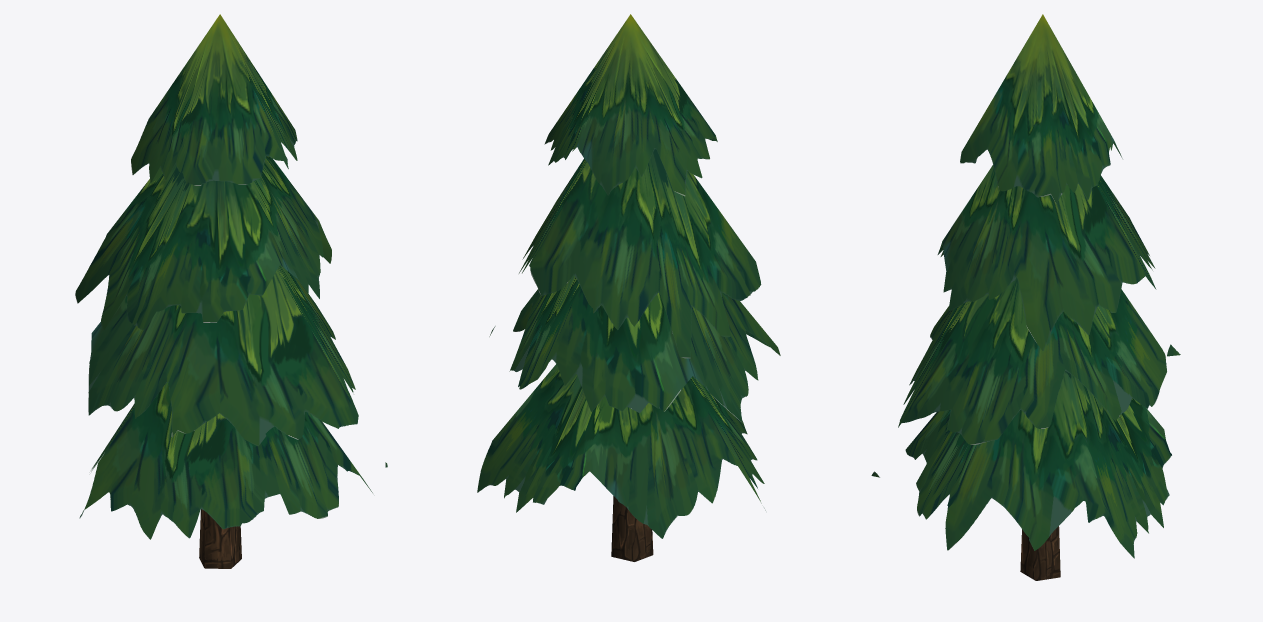
File: PineTree.FBX
3 views of the same model, side by side, from view 1: azimuth 30°, elevation 25°; view 2: azimuth 150°, elevation 25°; view 3: azimuth 270°, elevation 25° (orthographic). The views are drawn at different scales.
Visible parts, largest first — view 1: tree_coniferous_A; view 2: tree_coniferous_A; view 3: tree_coniferous_A.
Boxes of the visible parts, left/top/right/bottom form: tree_coniferous_A: left=75, top=14, right=387, bottom=568; tree_coniferous_A: left=477, top=14, right=780, bottom=561; tree_coniferous_A: left=871, top=14, right=1180, bottom=580.
Bounding box in the file's own units: 4.43 × 6.62 × 4.2.
